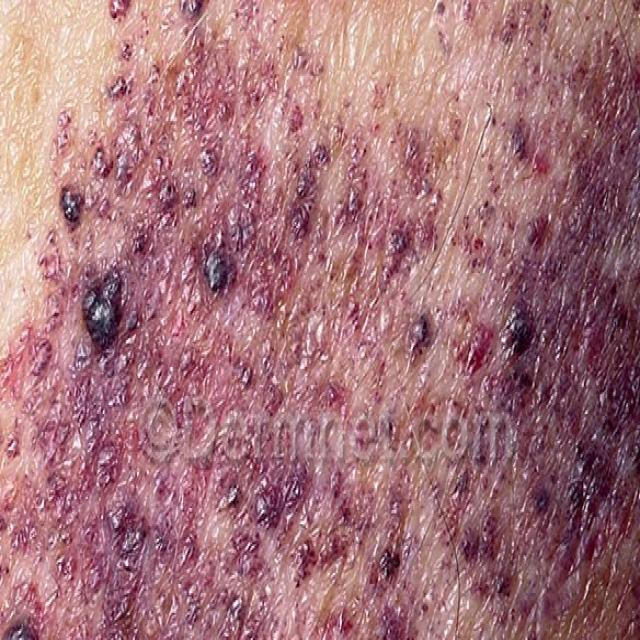Vascular Tumors: (0, 3, 640, 640)
